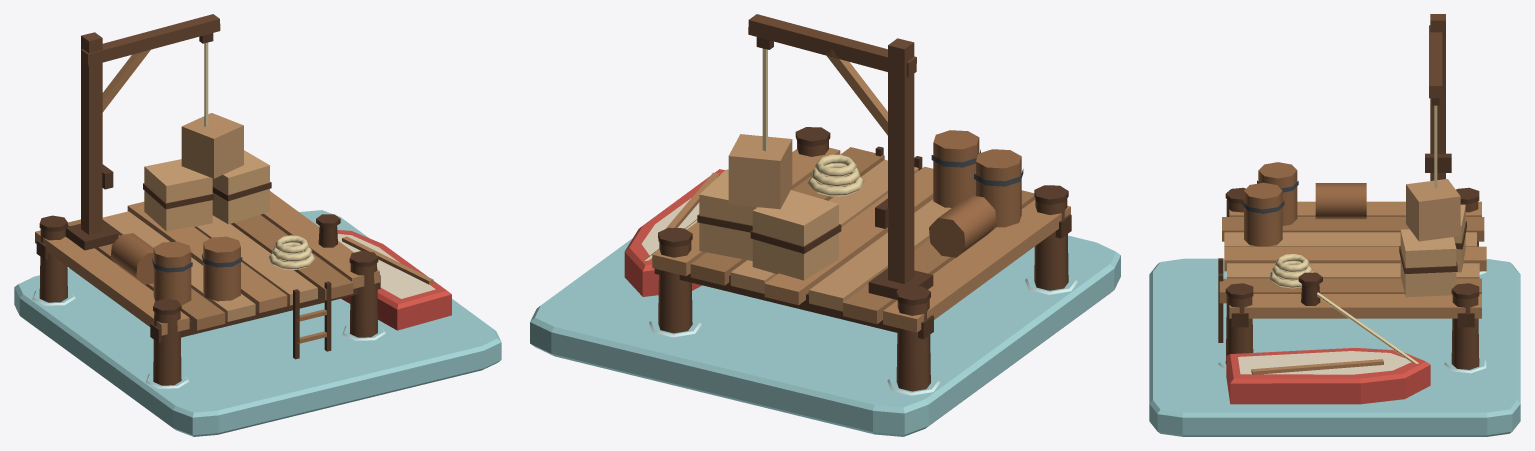
File: harbor_pier.glb
3 renders of one model, left to right at view 1: azimuth 30°, elevation 25°; view 2: azimuth 150°, elevation 25°; view 3: azimuth 270°, elevation 25°, orthographic. The views are drawn at different scales.
Parts seen in each view (by area): view 1: water, crane_mast, deck_plank_0, crate_2, crate_3, boat_hull, crate_1, deck_plank_4, deck_plank_3, crane_boom, deck_plank_6, deck_plank_5 (+17 smaller); view 2: water, crane_mast, deck_plank_0, crate_2, crate_3, deck_plank_3, deck_plank_2, crane_boom, crate_1, barrel_1, barrel_lying, barrel_0 (+21 smaller); view 3: water, boat_hull, deck_plank_6, deck_plank_3, crate_3, crate_1, boat_floor, deck_plank_1, deck_plank_4, deck_plank_5, deck_plank_2, barrel_1 (+16 smaller).
Part boxes in pixels (left/top/right/bottom): water: left=14, top=210, right=501, bottom=436; crane_mast: left=81, top=32, right=102, bottom=234; deck_plank_0: left=35, top=230, right=189, bottom=335; crate_2: left=144, top=159, right=212, bottom=231; crate_3: left=181, top=113, right=243, bottom=178; boat_hull: left=337, top=230, right=451, bottom=330; crate_1: left=212, top=150, right=269, bottom=224; deck_plank_4: left=194, top=215, right=317, bottom=305; deck_plank_3: left=127, top=201, right=287, bottom=312; crane_boom: left=81, top=14, right=220, bottom=66; deck_plank_6: left=260, top=191, right=379, bottom=288; deck_plank_5: left=230, top=215, right=353, bottom=300; water: left=530, top=169, right=1120, bottom=436; crane_mast: left=888, top=38, right=914, bottom=283; deck_plank_0: left=883, top=200, right=1070, bottom=332; crate_2: left=752, top=190, right=838, bottom=280; crate_3: left=728, top=134, right=792, bottom=209; deck_plank_3: left=764, top=166, right=933, bottom=305; deck_plank_2: left=809, top=199, right=951, bottom=311; crane_boom: left=748, top=14, right=916, bottom=77; crate_1: left=699, top=170, right=757, bottom=260; barrel_1: left=933, top=130, right=979, bottom=207; barrel_lying: left=929, top=195, right=996, bottom=257; barrel_0: left=976, top=149, right=1021, bottom=227; water: left=1149, top=258, right=1520, bottom=436; boat_hull: left=1226, top=348, right=1430, bottom=404; deck_plank_6: left=1229, top=294, right=1481, bottom=318; deck_plank_3: left=1224, top=246, right=1486, bottom=271; crate_3: left=1406, top=179, right=1460, bottom=241; crate_1: left=1400, top=229, right=1456, bottom=297; boat_floor: left=1238, top=351, right=1411, bottom=374; deck_plank_1: left=1222, top=217, right=1484, bottom=241; deck_plank_4: left=1227, top=263, right=1479, bottom=278; deck_plank_5: left=1219, top=278, right=1481, bottom=303; deck_plank_2: left=1224, top=232, right=1476, bottom=246; barrel_1: left=1244, top=182, right=1282, bottom=246.
Bounding box in the file's own units: 3.06 × 2.61 × 3.06.
